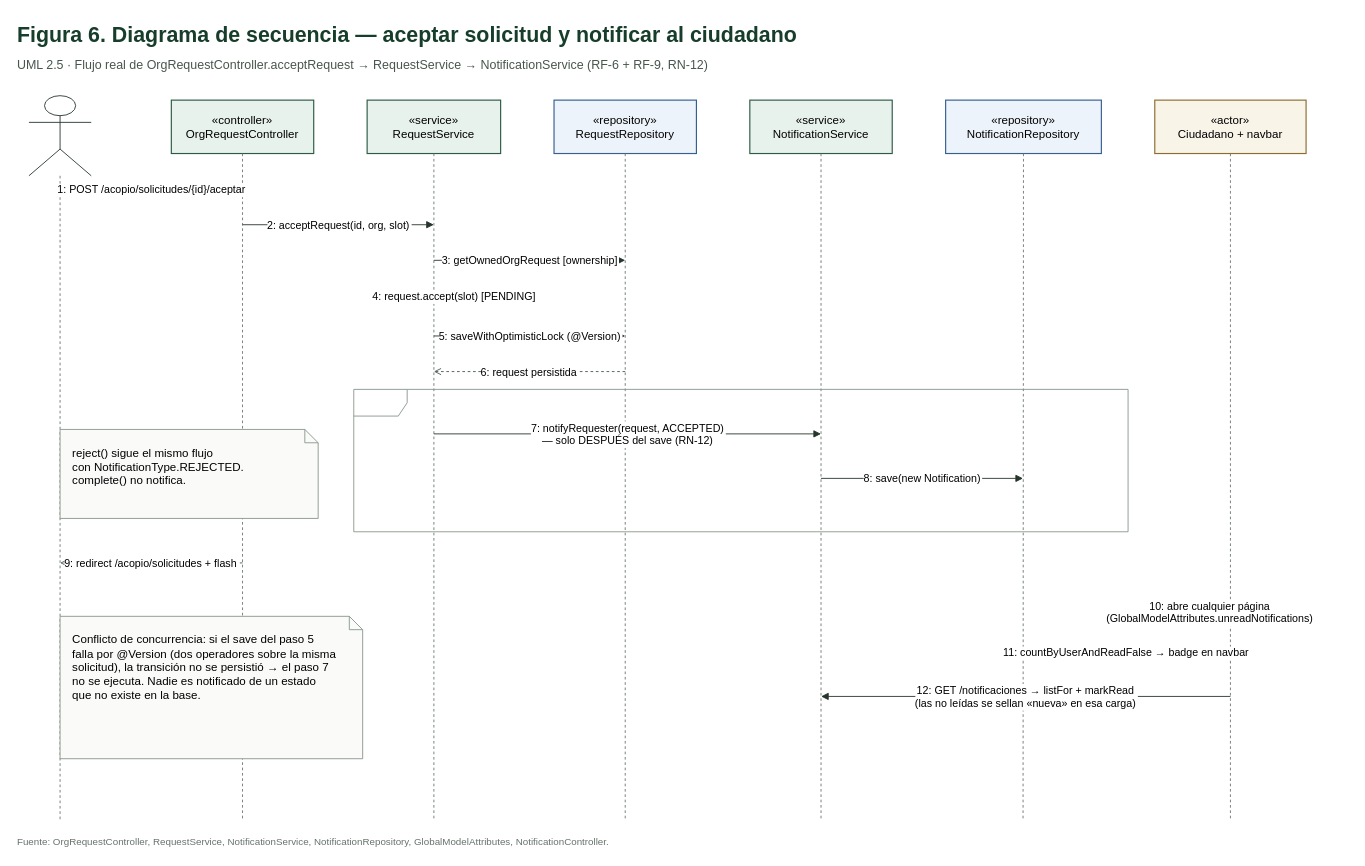
The diagram is 1365 pixels wide and 866 high, and some of its shapes have lost their labels. The centre of each missing label's shape, as x and y in pixels:
"alt [solicitante registrado] / else [request sin user: no notifica]" goes at (740,460).
"Organización" goes at (59,135).
